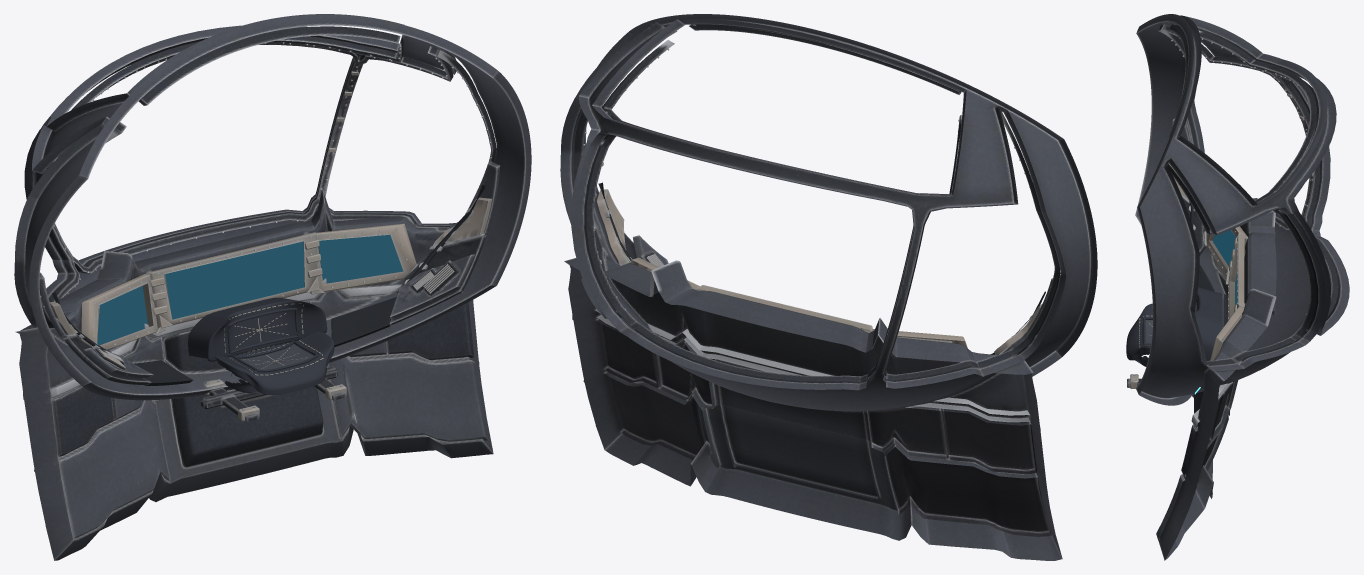
The model's file is cockpit_kasif.glb.
The picture shows the model from 3 angles, left to right: view 1: azimuth 30°, elevation 25°; view 2: azimuth 150°, elevation 25°; view 3: azimuth 270°, elevation 25°; orthographic projection. The views are drawn at different scales.
Parts seen in each view (by area): view 1: Cockpit_Body, SCR_RADAR, SCR_HULL, SCR_SYS; view 2: Cockpit_Body; view 3: Cockpit_Body, SCR_SYS.
Boxes of the visible parts, x1=… form: Cockpit_Body: x1=14, y1=14, x2=531, y2=560; SCR_RADAR: x1=165, y1=241, x2=304, y2=319; SCR_HULL: x1=319, y1=234, x2=403, y2=283; SCR_SYS: x1=97, y1=286, x2=147, y2=345; Cockpit_Body: x1=560, y1=14, x2=1097, y2=560; Cockpit_Body: x1=1126, y1=14, x2=1349, y2=560; SCR_SYS: x1=1213, y1=230, x2=1235, y2=266.
Bounding box in the file's own units: 2.77 × 2.49 × 1.21.
Materials: 10 (8 with a texture image).
